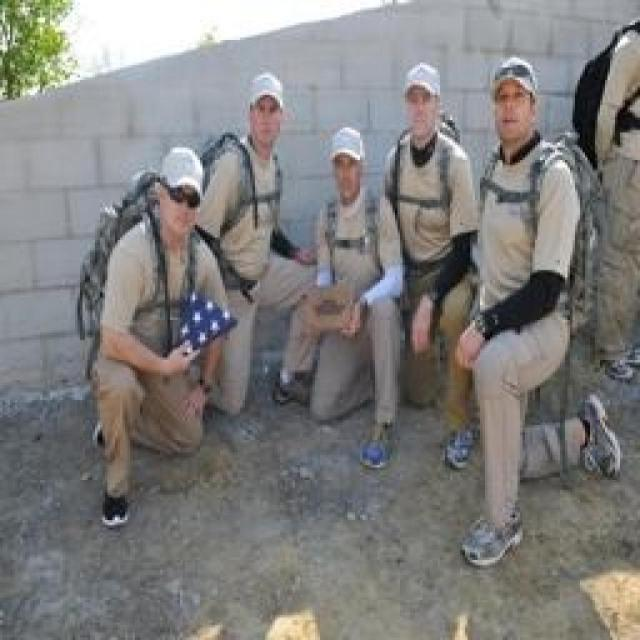Helmet: (79, 179, 225, 447), (470, 128, 594, 442), (555, 0, 640, 324), (197, 134, 297, 358), (305, 168, 409, 377), (374, 124, 476, 322), (225, 65, 323, 152), (482, 44, 578, 125), (142, 132, 214, 235), (304, 118, 386, 182), (390, 53, 454, 128)
